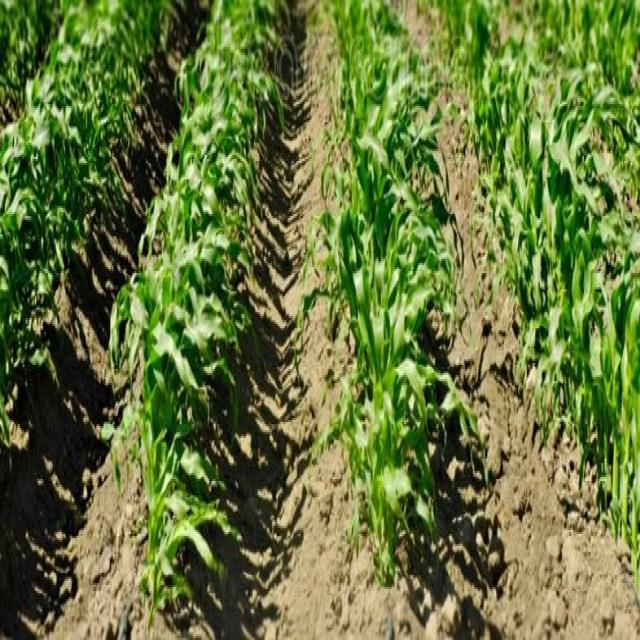row: (387, 0, 638, 640), (0, 0, 226, 635), (195, 0, 379, 640)
